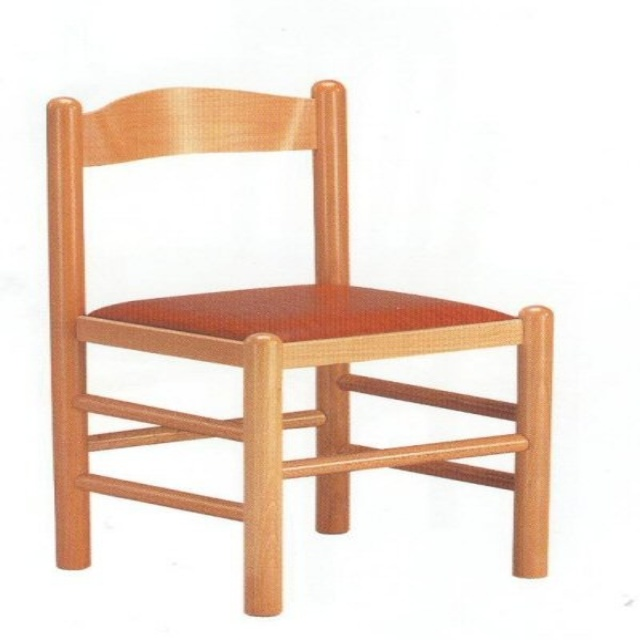obstacle: (48, 81, 552, 615)
